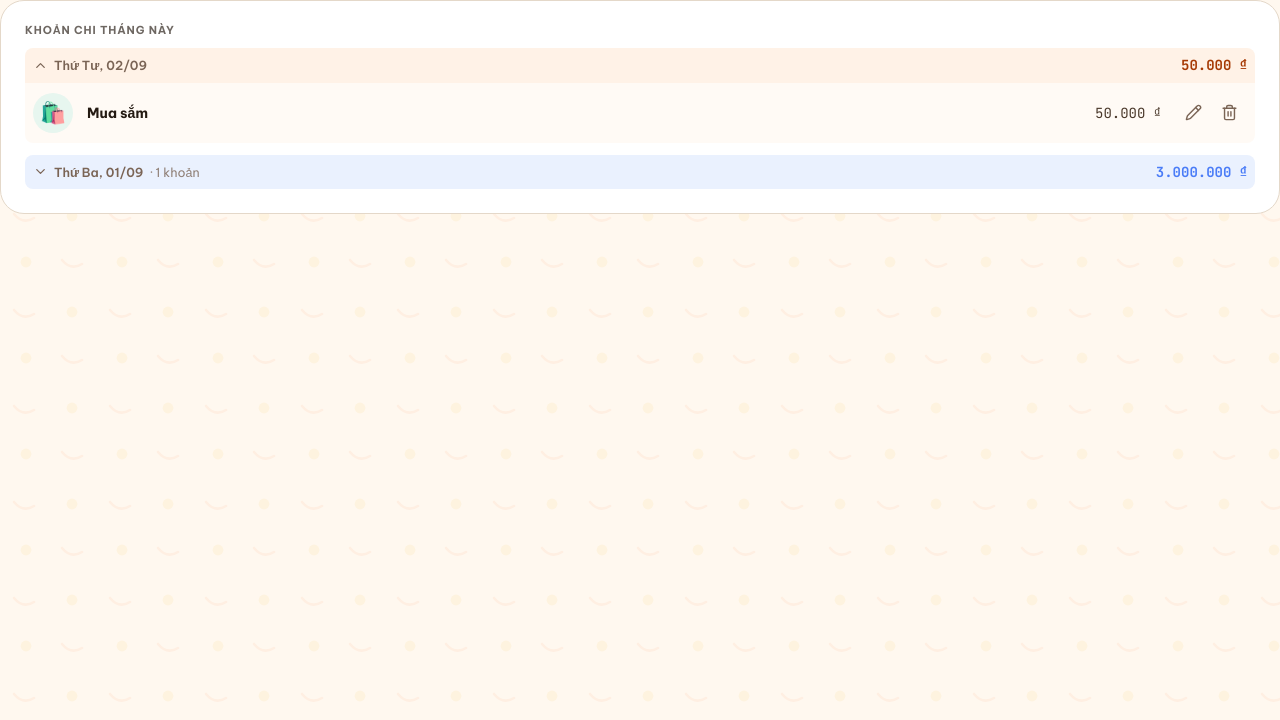
Scenario: ExpenseListCard › renders each expense's amount, tag label (or untagged) and note
This screenshot has width=1280, height=720.
What coordinates should you click on to do the following:
click the button with test id "expense-day-header"
I would click on:
 (99, 172)
Its box is [25,155,1255,189].
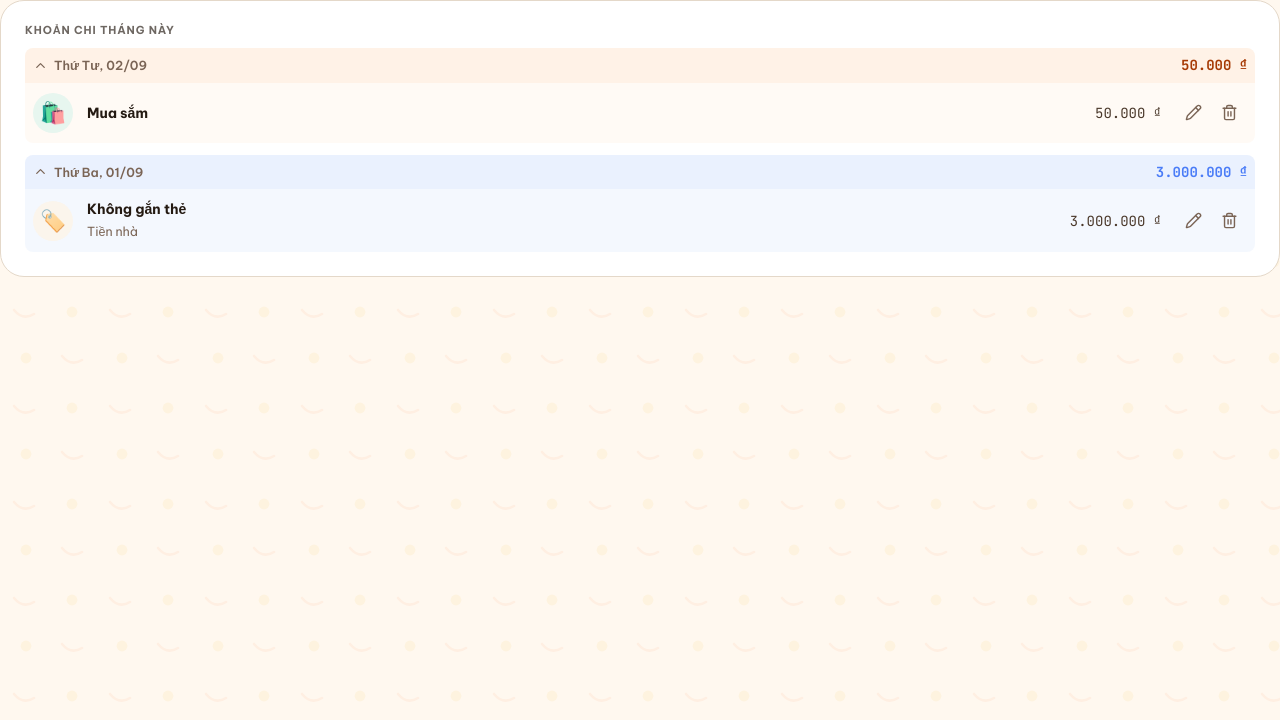
Expected: the 1st text "50.000 ₫" is shown, [1181,55,1247,75]
Expected: the text "Tiền nhà" is shown, [87,223,138,239]
Expected: the text "Không gắn thẻ" is shown, [87,200,186,218]
